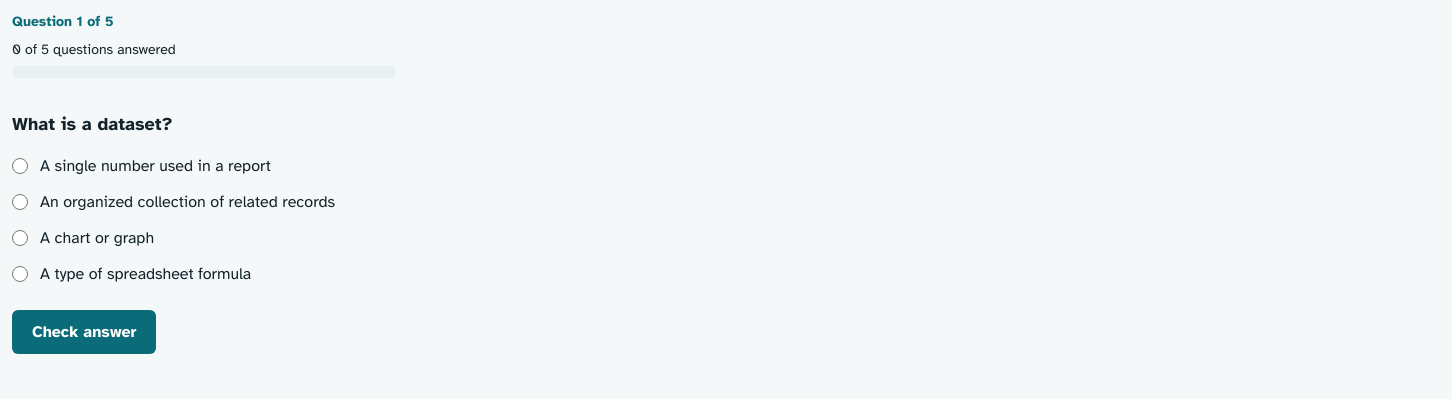
Test case: Quiz behavior › shows a role=alert error and moves focus to the fieldset when submitting with nothing selected
Click the button "Check answer": (84, 332) [12, 310, 156, 354]
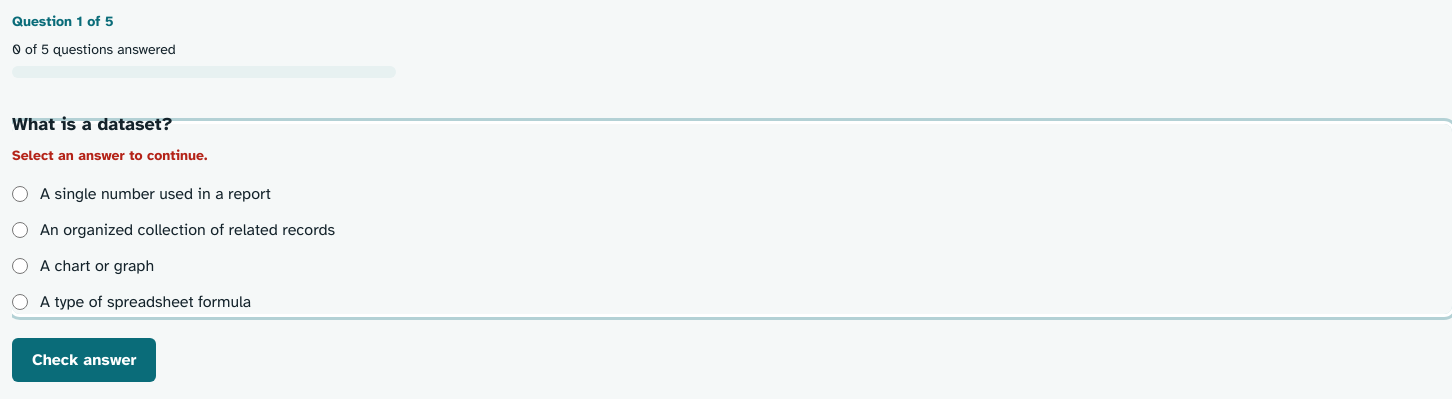
Expected: the element that starts with "What is a dataset?" is shown, [12, 110, 1451, 314]
Expected: the message reads "Select an answer to continue.", [12, 147, 207, 164]
